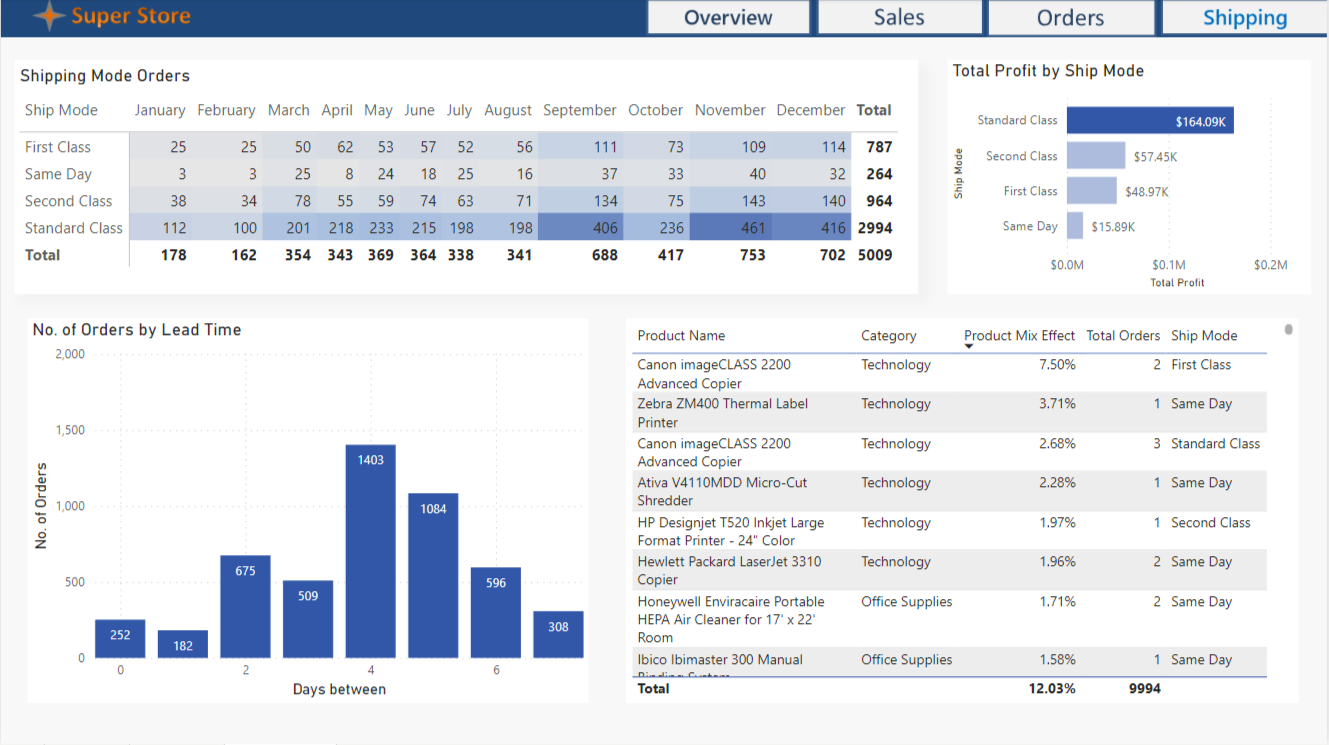

Layout of this report page (visuals, bound fields, positions):
{"tool":"powerbi","page":{"name":"Shipping","canvas":[1280,720],"ordinal":3},"visuals":[{"type":"clusteredBarChart","fields":{"Y":["Financial Measures.Total Profit"],"Category":["Orders.Ship Mode"]},"box":[913,59.1,351,226.7],"z":0},{"type":"pivotTable","title":"Shipping Mode Orders","fields":{"Rows":["Orders.Ship Mode"],"Columns":["Orders.Order Date.Variation.Date Hierarchy.Month","Orders.Order Date.Variation.Date Hierarchy.Day"],"Values":["Count(Orders.Order ID)"]},"box":[13.3,59.1,872,226.7],"z":5000},{"type":"tableEx","fields":{"Values":["Orders.Product Name","Orders.Category","Financial Measures.Product Mix Effect","Financial Measures.Total Orders","Orders.Ship Mode"]},"box":[603,308.7,648.8,371.5],"z":6000},{"type":"columnChart","title":"No. of Orders by Lead Time","fields":{"Category":["Orders.Days between"],"Y":["Count(Orders.Order ID)"]},"box":[25.3,308.7,541.5,371.5],"z":7000}]}

Visuals, with their boxes in screenshot pixels (x1, y1, x2, y2), scaled from the page's 1280x720 canvas onto the 1329x745 screenshot:
clusteredBarChart - Financial Measures.Total Profit x Orders.Ship Mode: bbox(948, 61, 1312, 296)
"Shipping Mode Orders" pivotTable: bbox(14, 61, 919, 296)
tableEx - Orders.Product Name x Orders.Category: bbox(626, 319, 1300, 704)
"No. of Orders by Lead Time" columnChart: bbox(26, 319, 588, 704)
